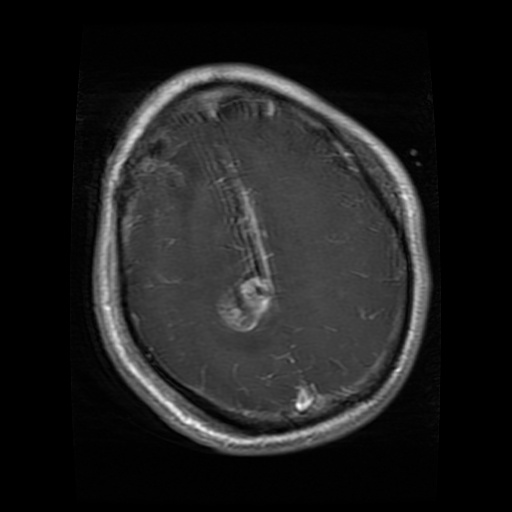glioma: (214, 273, 273, 333)
